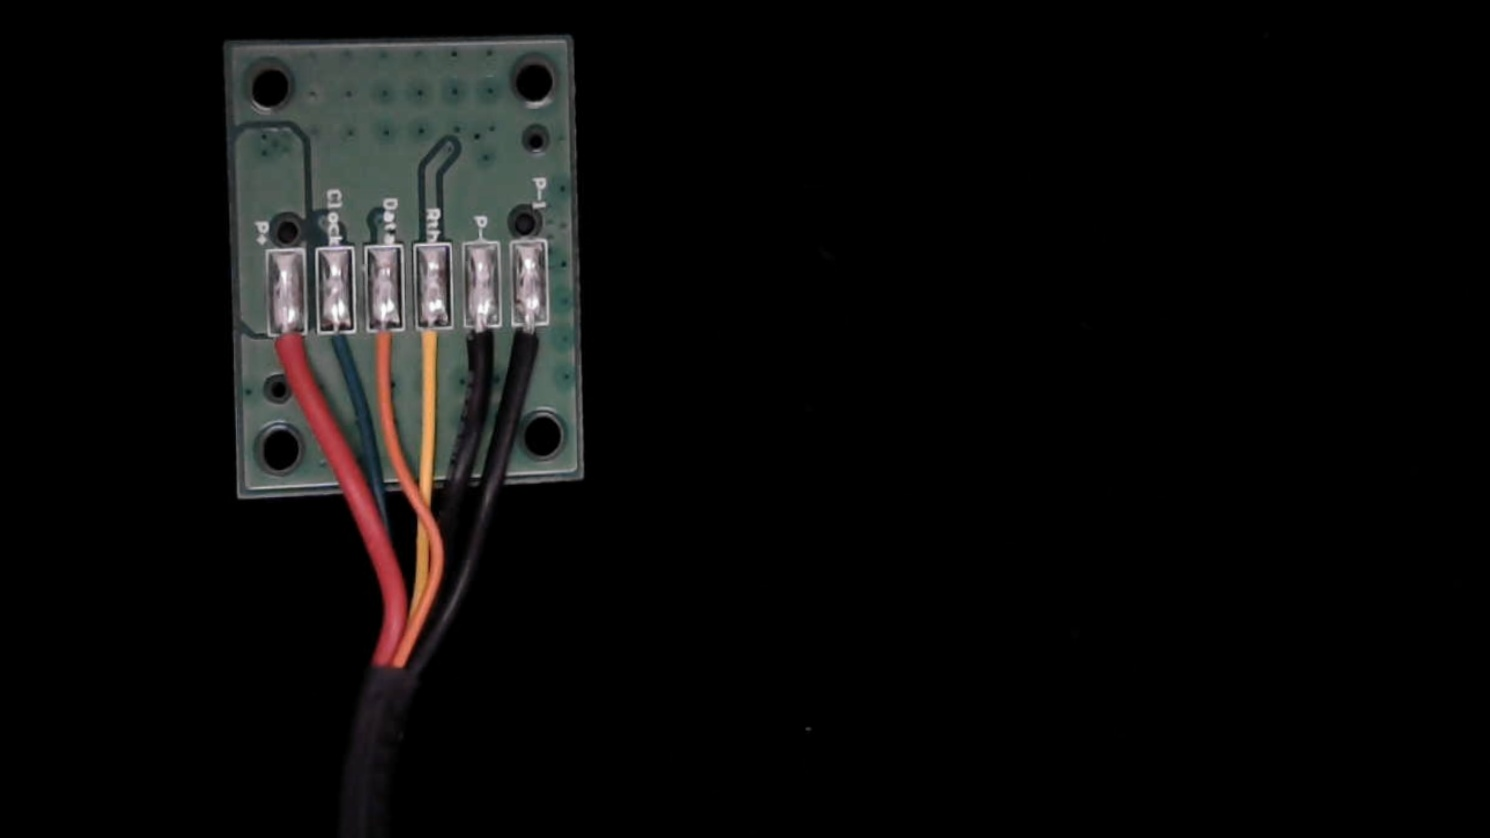Black: (463, 306, 498, 393)
Black1: (510, 306, 551, 397)
Green: (318, 310, 359, 389)
Orange: (364, 310, 404, 389)
Red: (267, 317, 306, 401)
Yellow: (413, 305, 455, 393)
